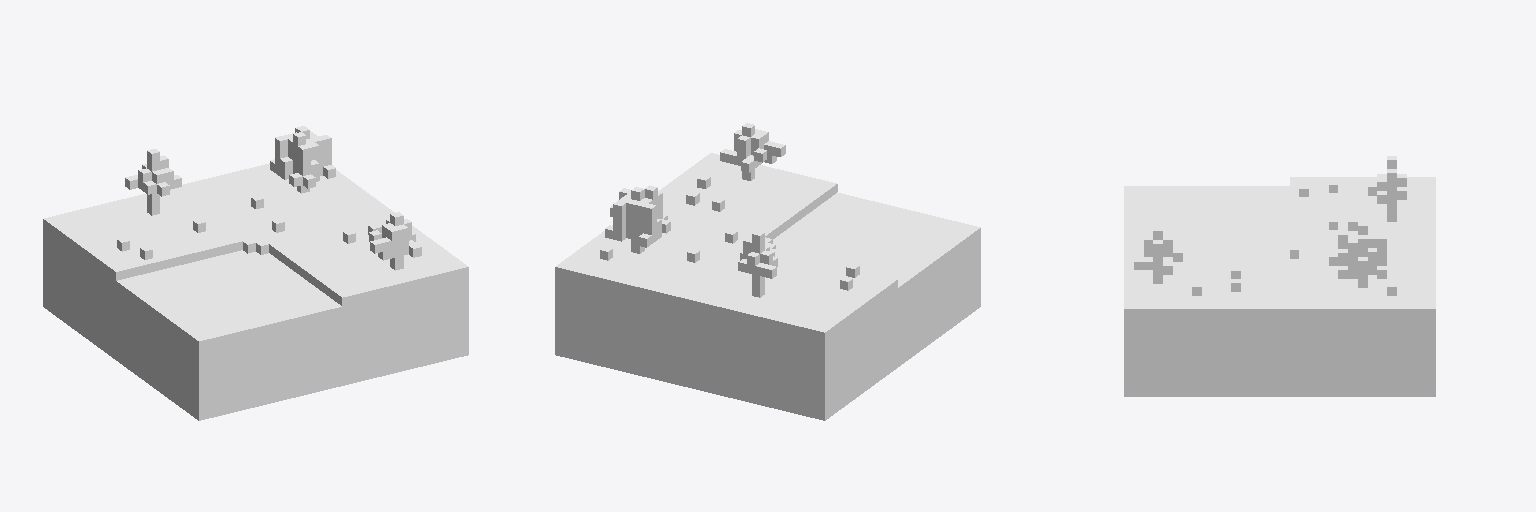
File: Overworld_Ocean_05.obj
3 renders of one model, left to right at view 1: azimuth 30°, elevation 25°; view 2: azimuth 150°, elevation 25°; view 3: azimuth 270°, elevation 25°, orthographic.
Parts seen in each view (by area): view 1: object 1; view 2: object 1; view 3: object 1.
Part boxes in pixels (x1,y1,x2,y2): object 1: (43, 126, 468, 420); object 1: (555, 123, 980, 420); object 1: (1124, 156, 1435, 396).
Bounding box in the file's own units: 3.2 × 1.7 × 3.2.